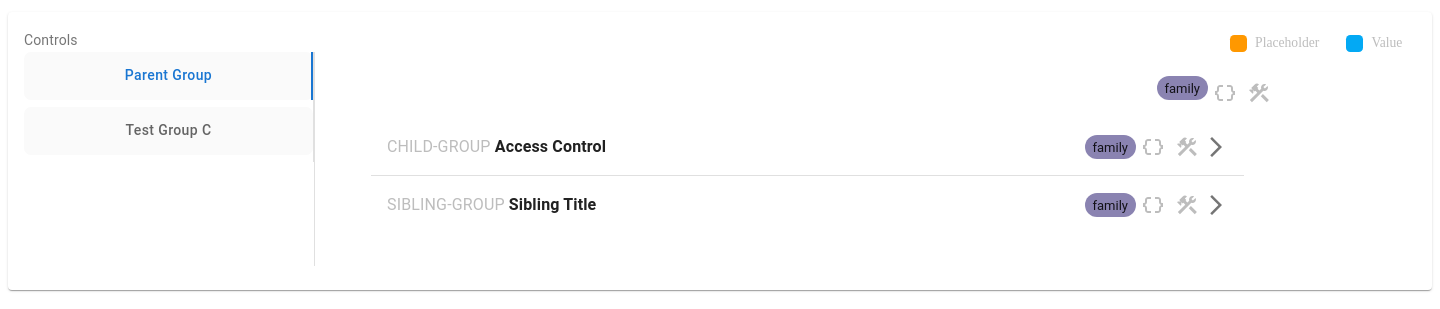
Test: OSCALCatalogGroup › displays outer group prose
Click the tab "Test Group C". click: {"x": 168, "y": 131}
box: [24,107,313,155]
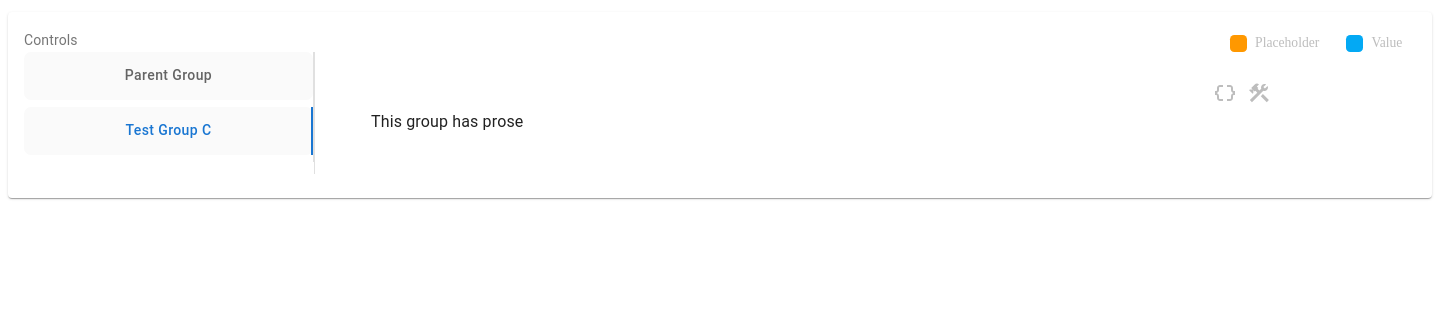
Check: the text "This group has prose" is shown, box [371,112,524,131]
